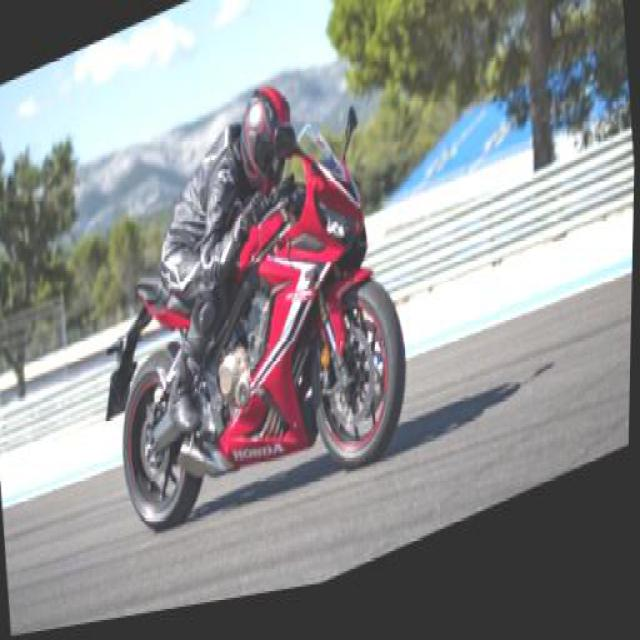CBR650R: (102, 96, 422, 584)
